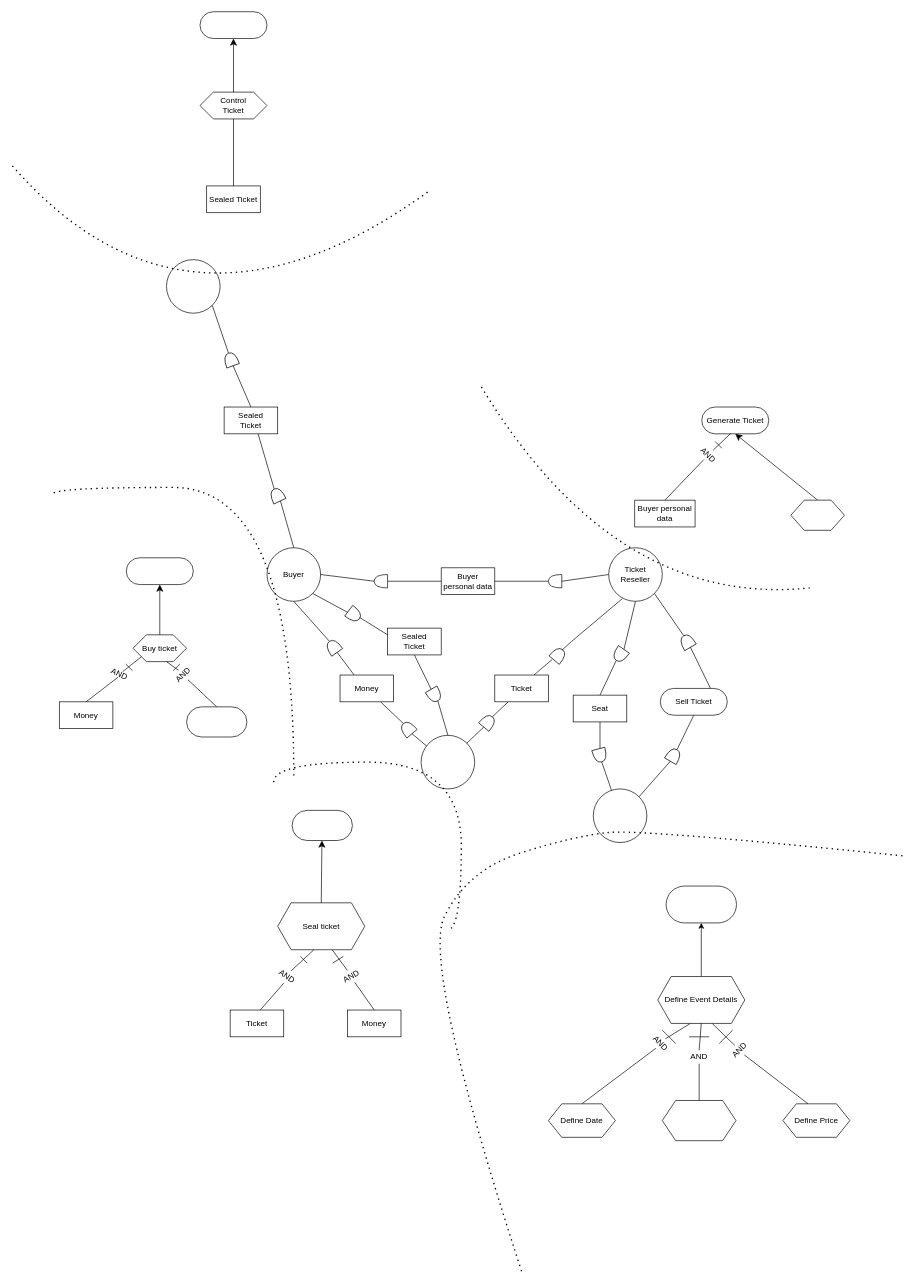
Image size: 915x1284. Some labels were removed from this diagram. Here are the shapes that lost their labels. From the top down, the box of each, then its label:
(199, 11, 267, 39): Validate Ticket
(166, 259, 220, 313): Ticket Validator
(790, 499, 844, 530): Check Seat Aviability
(126, 557, 193, 585): Attend event
(186, 706, 247, 737): Choose Event
(420, 735, 475, 789): Payment System
(291, 810, 352, 841): Deliver ticket
(593, 788, 647, 843): Event Manager
(665, 885, 736, 923): Create Event
(662, 1100, 736, 1141): Define Number of Tickets
